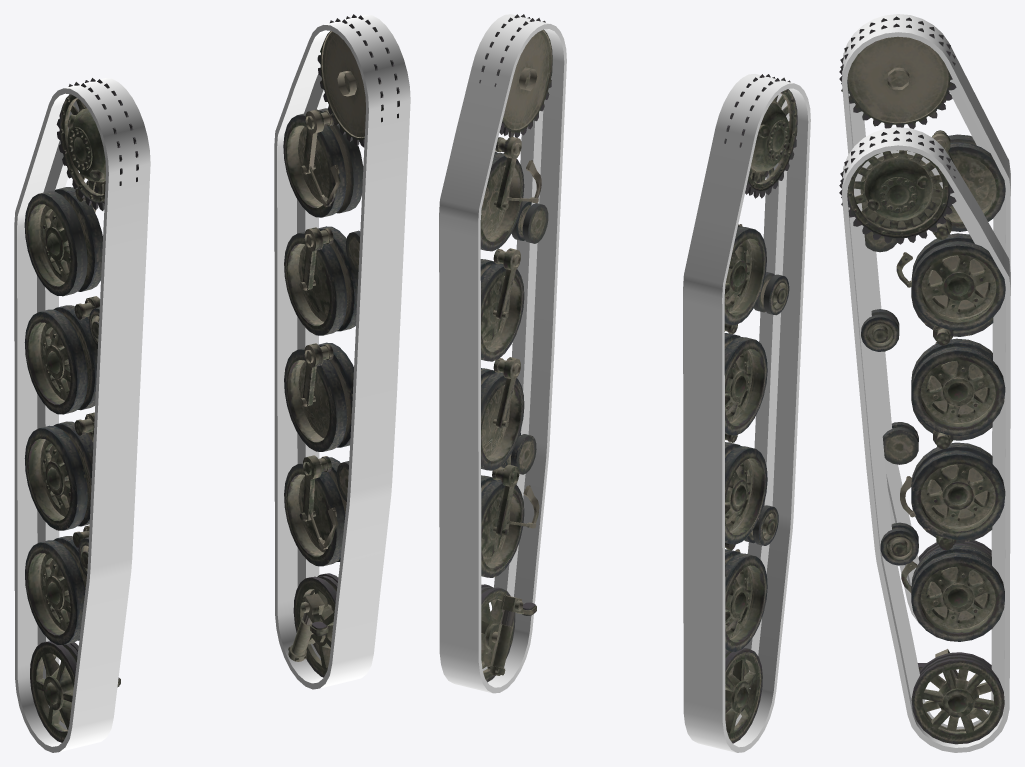
File: Chassis.glb
3 renders of one model, left to right at view 1: azimuth 30°, elevation 25°; view 2: azimuth 150°, elevation 25°; view 3: azimuth 270°, elevation 25°, orthographic. The views are drawn at different scales.
Visible parts, largest first — view 1: set_0_group_0, set_1_group_0, set_2_group_0, set_3_group_0; view 2: set_0_group_0, set_1_group_0, set_3_group_0, set_2_group_0; view 3: set_3_group_0, set_1_group_0, set_2_group_0, set_0_group_0.
Part boxes in pixels (left/top/right/bottom): set_0_group_0: left=14, top=78, right=150, bottom=752; set_1_group_0: left=274, top=14, right=410, bottom=689; set_2_group_0: left=24, top=78, right=138, bottom=742; set_3_group_0: left=283, top=14, right=399, bottom=677; set_0_group_0: left=683, top=74, right=810, bottom=752; set_1_group_0: left=439, top=14, right=566, bottom=693; set_3_group_0: left=479, top=14, right=552, bottom=682; set_2_group_0: left=724, top=74, right=797, bottom=743; set_3_group_0: left=839, top=130, right=1005, bottom=744; set_1_group_0: left=842, top=127, right=1010, bottom=752; set_2_group_0: left=839, top=16, right=1005, bottom=573; set_0_group_0: left=842, top=14, right=1010, bottom=625.
Size of the model in its own units: 2.06 by 4.46 by 1.14.
Materials: 4 (2 with a texture image).
